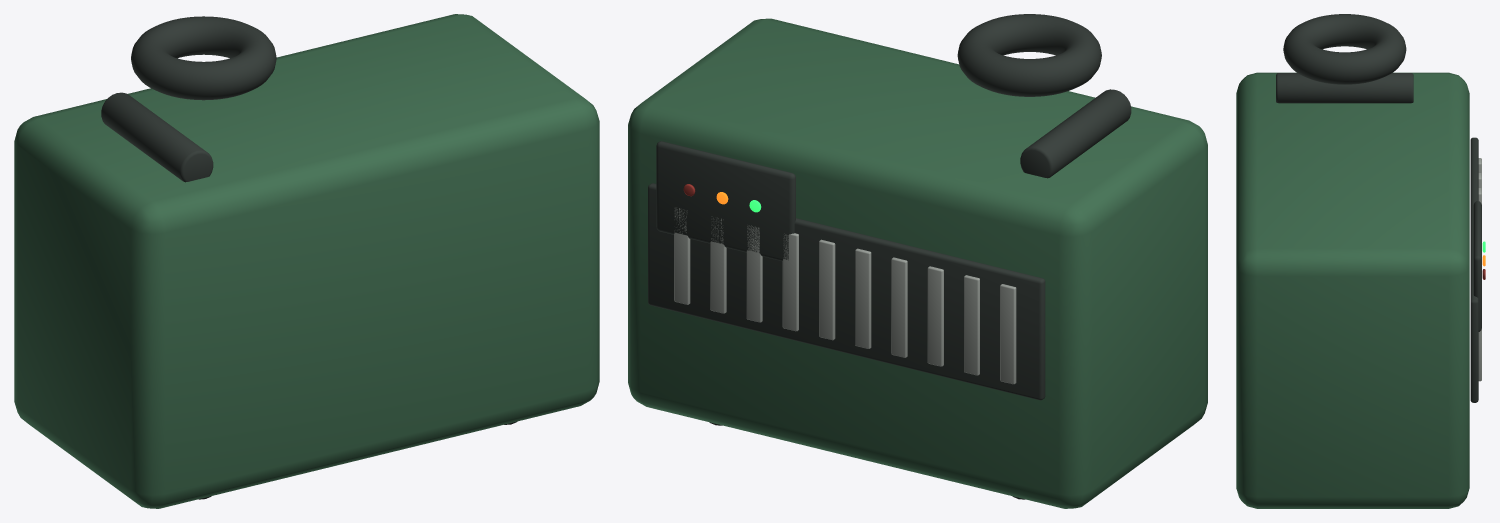
The model's file is generator.glb.
The picture shows the model from 3 angles, left to right: view 1: azimuth 30°, elevation 25°; view 2: azimuth 150°, elevation 25°; view 3: azimuth 270°, elevation 25°; orthographic projection. The views are drawn at different scales.
Parts seen in each view (by area): view 1: Generator_Frame, ExhaustBend, Generator_Exhaust; view 2: Generator_Frame, Generator_Vent, Generator_Panel, ExhaustBend, Generator_Exhaust, Vent_-0.56, Vent_-0.33999999999999997, Vent_-0.12, Vent_0.10000000000000009, Vent_-1.0, Vent_0.32000000000000006, Vent_-0.78 (+3 smaller); view 3: Generator_Frame, ExhaustBend, Generator_Exhaust, Generator_Vent, Generator_Panel.
Part boxes in pixels (x1,y1,x2,y2): Generator_Frame: (14, 14, 599, 508); ExhaustBend: (131, 16, 276, 100); Generator_Exhaust: (101, 92, 213, 182); Generator_Frame: (628, 18, 1207, 508); Generator_Vent: (648, 183, 1045, 400); Generator_Panel: (656, 141, 795, 261); ExhaustBend: (957, 14, 1101, 96); Generator_Exhaust: (1020, 89, 1131, 178); Vent_-0.56: (927, 266, 943, 366); Vent_-0.33999999999999997: (891, 257, 907, 357); Vent_-0.12: (855, 248, 871, 348); Vent_0.10000000000000009: (819, 239, 835, 340); Vent_-1.0: (1000, 284, 1016, 384); Vent_0.32000000000000006: (782, 233, 798, 331); Vent_-0.78: (964, 275, 979, 375); Generator_Frame: (1236, 72, 1469, 508); ExhaustBend: (1283, 14, 1406, 84); Generator_Exhaust: (1276, 73, 1413, 103); Generator_Vent: (1470, 137, 1478, 402); Generator_Panel: (1473, 201, 1481, 331).
Bounding box in the file's own units: 2.8 × 2.38 × 1.54.
